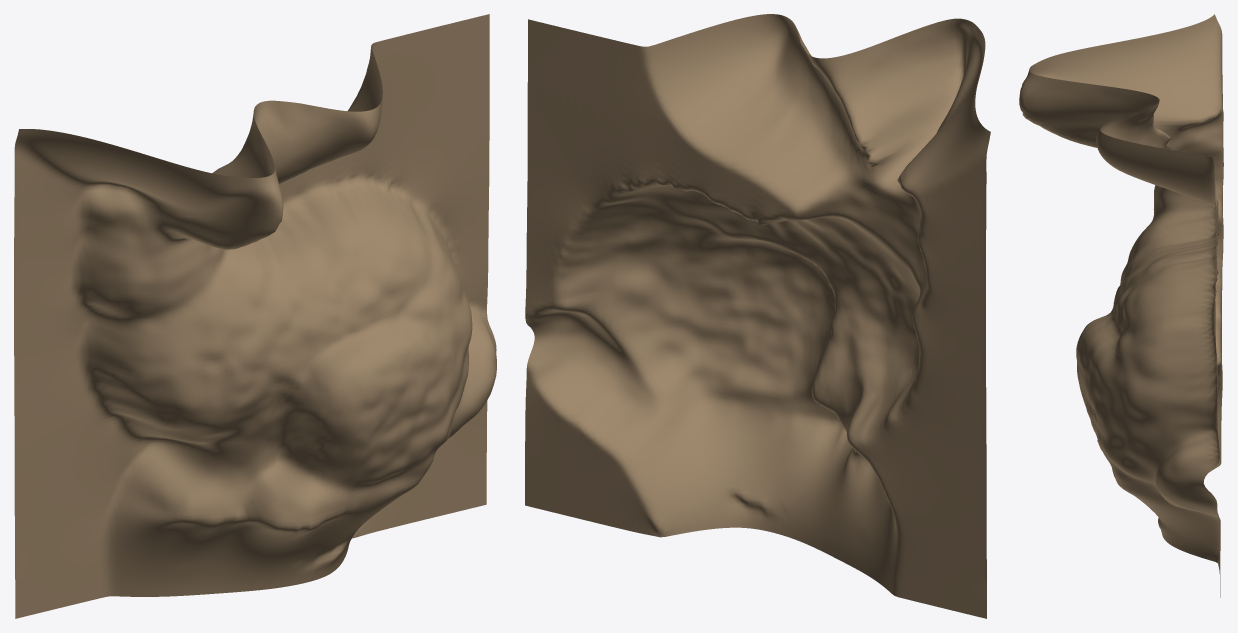
File: bunny.glb
3 views of the same model, side by side, from view 1: azimuth 30°, elevation 25°; view 2: azimuth 150°, elevation 25°; view 3: azimuth 270°, elevation 25° (orthographic). The views are drawn at different scales.
Visible parts, largest first — view 1: bunny-15k-EST; view 2: bunny-15k-EST; view 3: bunny-15k-EST.
Part boxes in pixels (x1,y1,x2,y2): bunny-15k-EST: (14,14,496,618); bunny-15k-EST: (525,14,990,618); bunny-15k-EST: (1019,14,1223,597).
Size of the model in its own units: 1.25 by 1.25 by 0.562.
